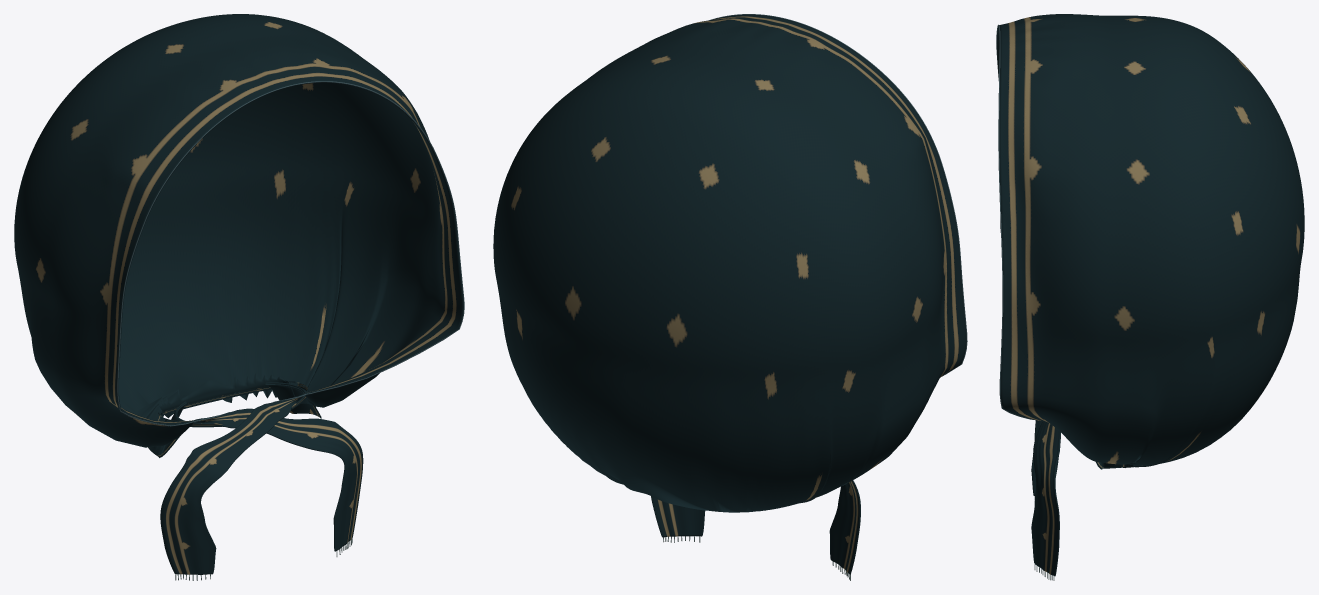
The model's file is Masculine-taper-tank-pashmina250-headgear.glb.
3 views of the same model, side by side, from view 1: azimuth 30°, elevation 25°; view 2: azimuth 150°, elevation 25°; view 3: azimuth 270°, elevation 25° (orthographic). The views are drawn at different scales.
Parts seen in each view (by area): view 1: 226 headgear / Headwear / continuous woven pashmina239, 226 headgear / Headwear / face edge239; view 2: 226 headgear / Headwear / continuous woven pashmina239, 226 headgear / Headwear / face edge239; view 3: 226 headgear / Headwear / continuous woven pashmina239, 226 headgear / Headwear / face edge239.
Part boxes in pixels (left/top/right/bottom): 226 headgear / Headwear / continuous woven pashmina239: left=14, top=14, right=463, bottom=574; 226 headgear / Headwear / face edge239: left=117, top=81, right=464, bottom=426; 226 headgear / Headwear / continuous woven pashmina239: left=493, top=14, right=966, bottom=574; 226 headgear / Headwear / face edge239: left=709, top=14, right=967, bottom=376; 226 headgear / Headwear / continuous woven pashmina239: left=996, top=14, right=1304, bottom=576; 226 headgear / Headwear / face edge239: left=996, top=24, right=1035, bottom=420.
Size of the model in its own units: 1.07 by 1.38 by 0.7639.
3 materials, 1 textured.
